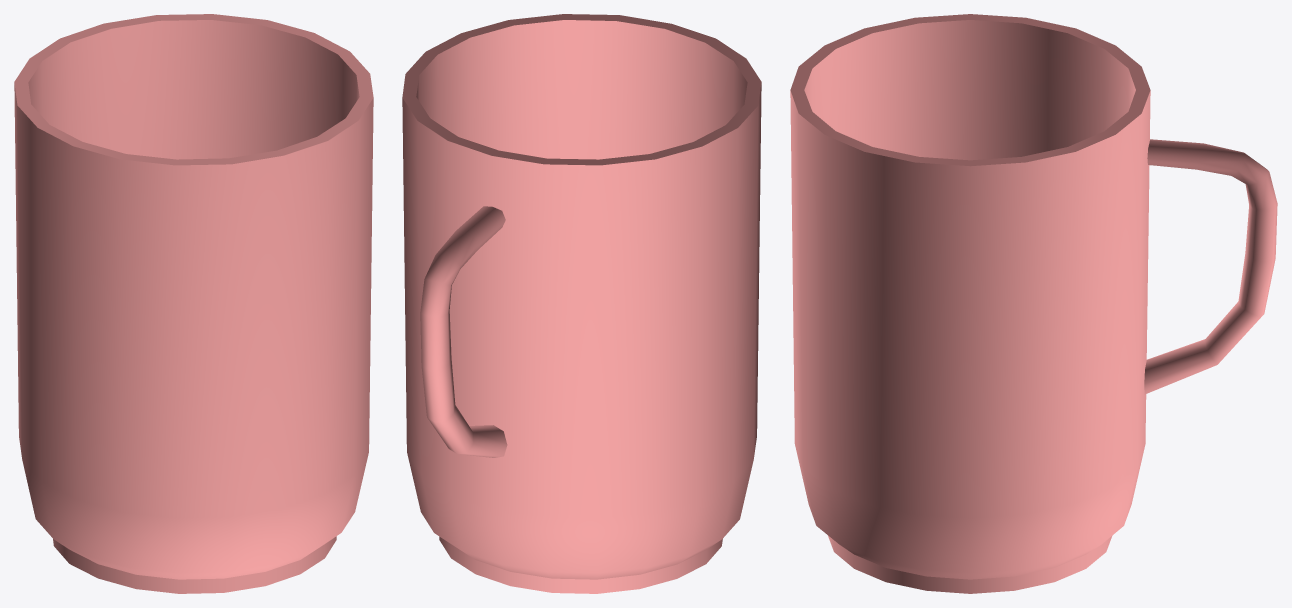
File: TFYK_mug_high_poly.FBX
3 views of the same model, side by side, from view 1: azimuth 30°, elevation 25°; view 2: azimuth 150°, elevation 25°; view 3: azimuth 270°, elevation 25° (orthographic).
Parts seen in each view (by area): view 1: TFYK_mug_high_poly; view 2: TFYK_mug_high_poly; view 3: TFYK_mug_high_poly.
Boxes of the visible parts, x1,y1,x2,y2 form: TFYK_mug_high_poly: [14, 14, 373, 593]; TFYK_mug_high_poly: [402, 14, 761, 593]; TFYK_mug_high_poly: [790, 14, 1277, 593].
Size of the model in its own units: 0.057 by 0.0774 by 0.0771.
